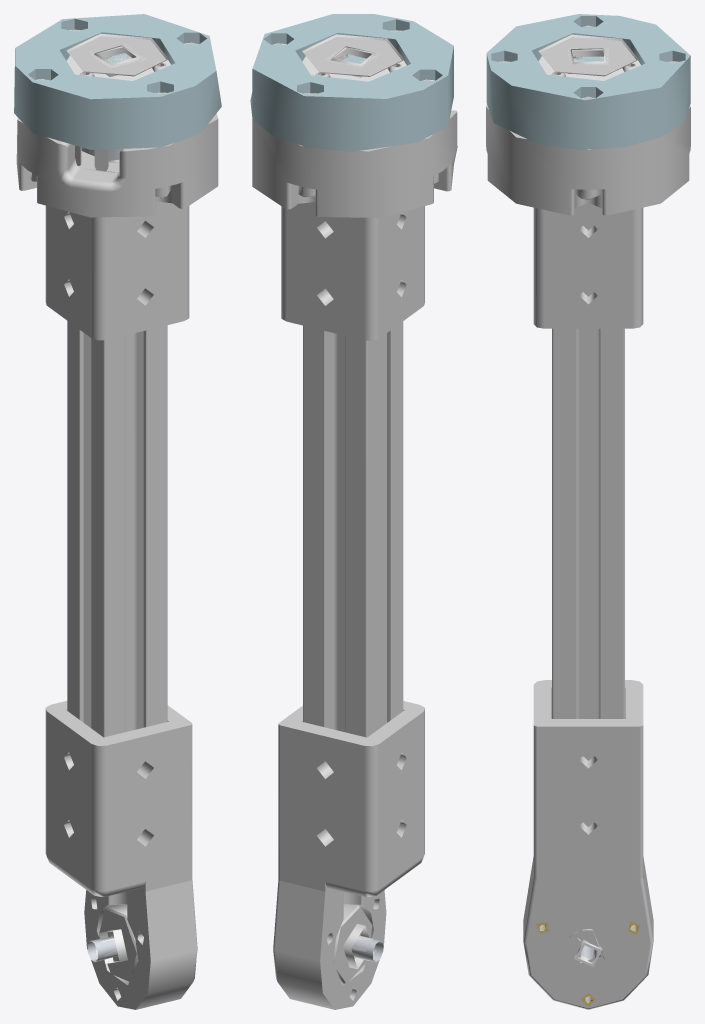
File: art3.glb
The picture shows the model from 3 angles, left to right: view 1: azimuth 30°, elevation 25°; view 2: azimuth 150°, elevation 25°; view 3: azimuth 270°, elevation 25°; orthographic projection.
Visible parts, largest first — view 1: art3; view 2: art3; view 3: art3.
Part boxes in pixels (x1,y1,x2,y2): art3: [14, 14, 221, 1009]; art3: [250, 14, 457, 1009]; art3: [486, 14, 690, 1009].
Size of the model in its own units: 0.5156 by 2.59 by 0.5156.
